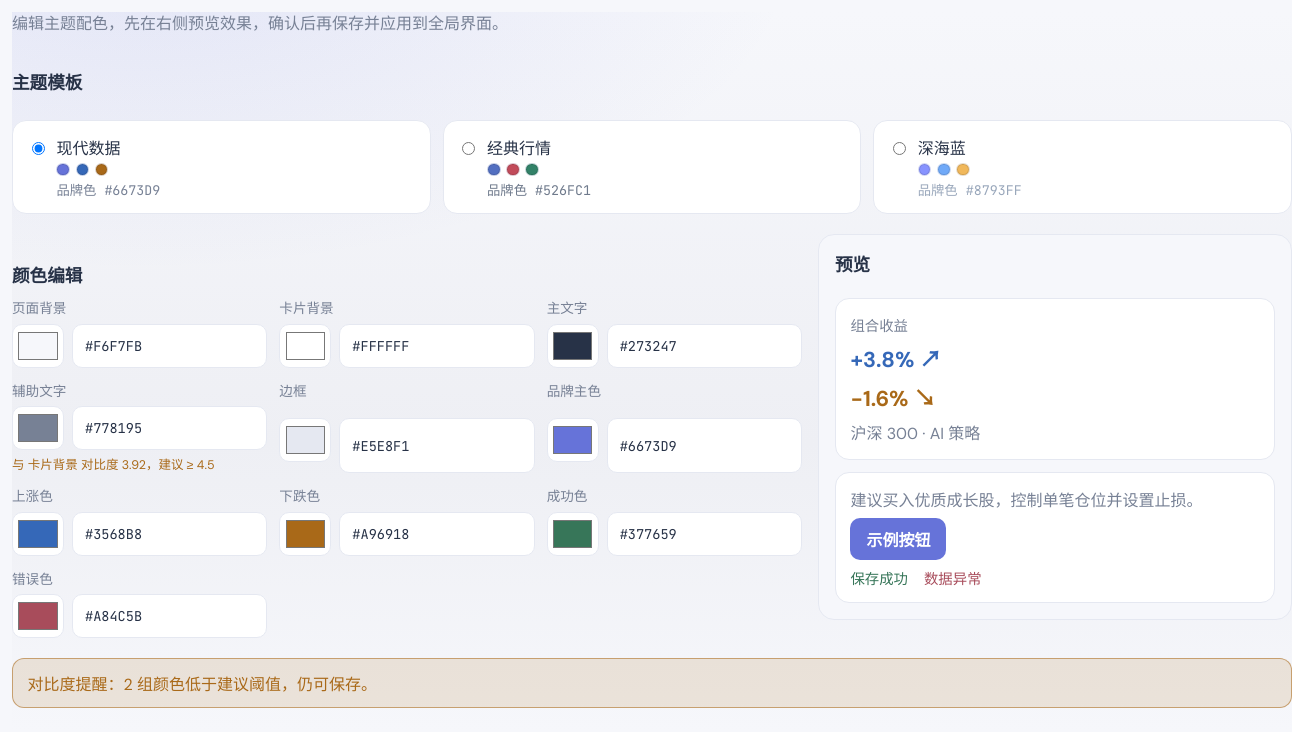
Test: 切换模板会确认并覆盖草稿
The width and height of the screenshot is (1292, 732).
Clear the field named "品牌主色（十六进制）": (704,446) [607,418,802,473]
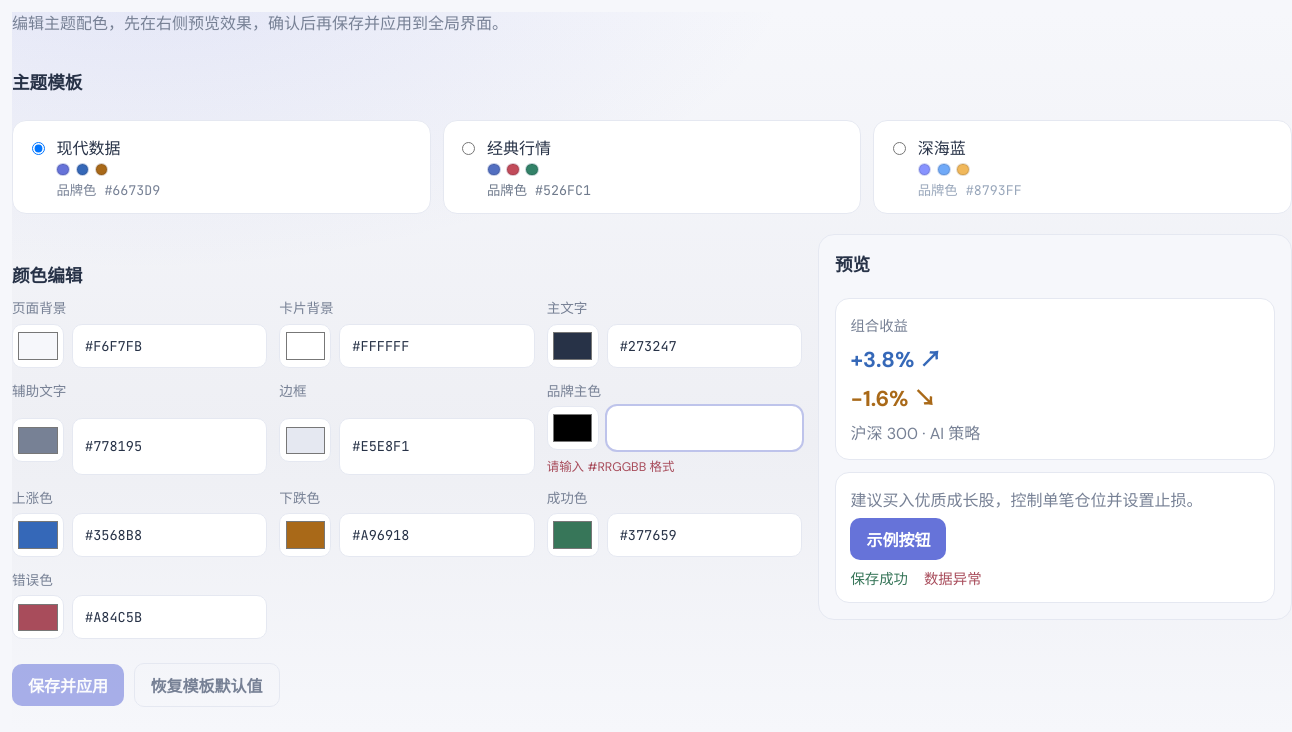
In the field named "品牌主色（十六进制）": (704,428) [607,406,802,450], type "#123456"
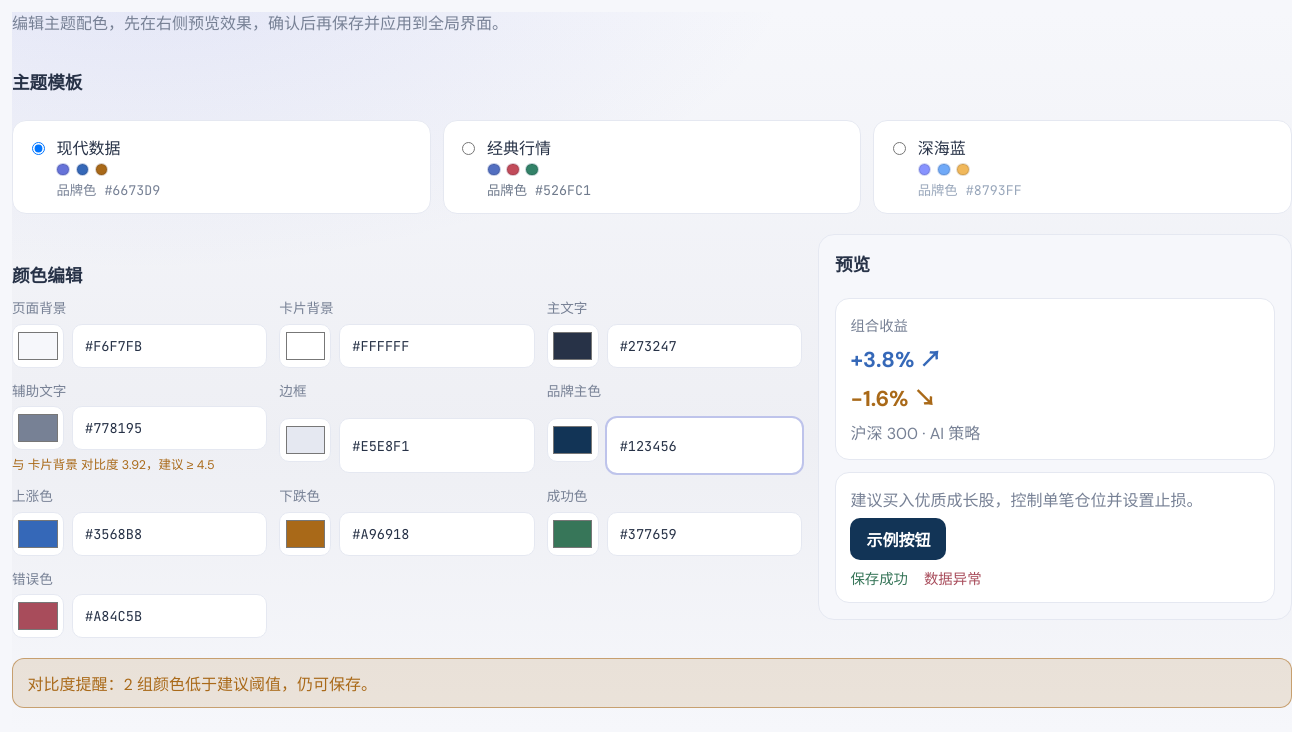
Click the radio button labelled "经典行情": (469,148) [462,142,475,155]
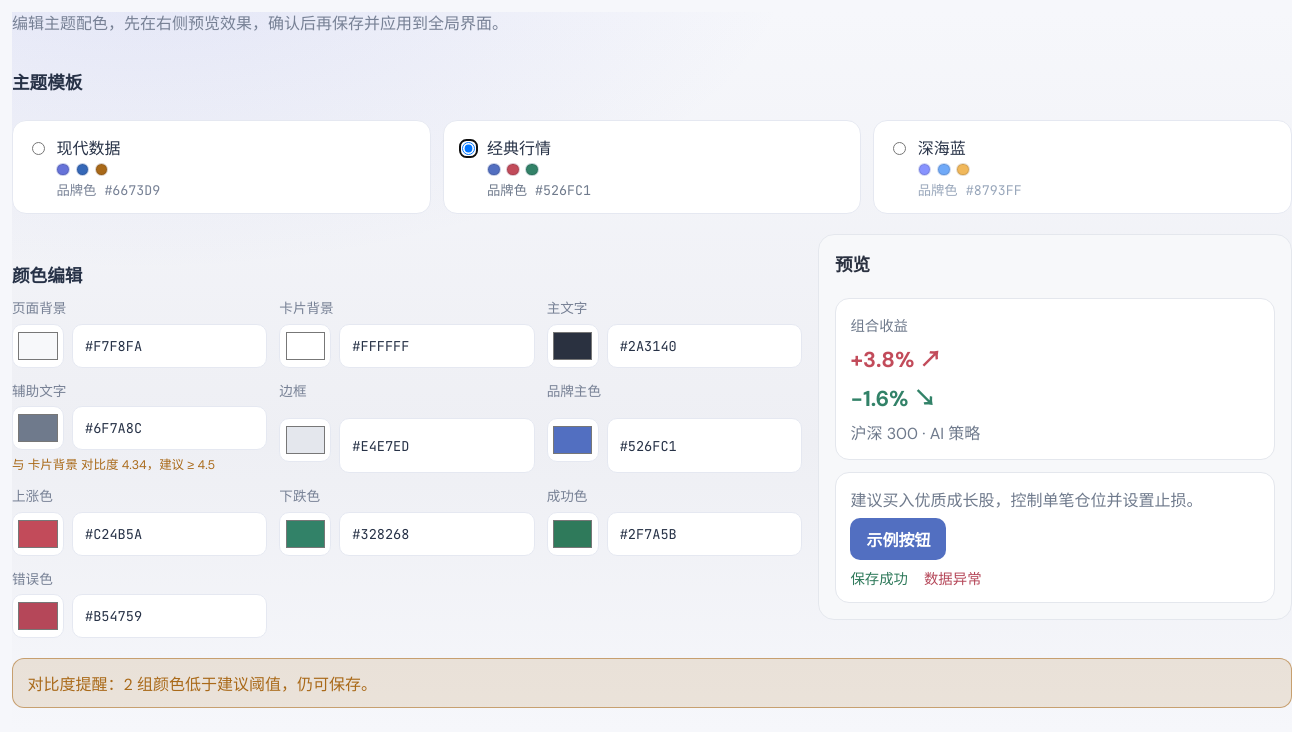
Check: the field named "品牌主色（十六进制）" holds "#526FC1", box [607,418,802,473]
